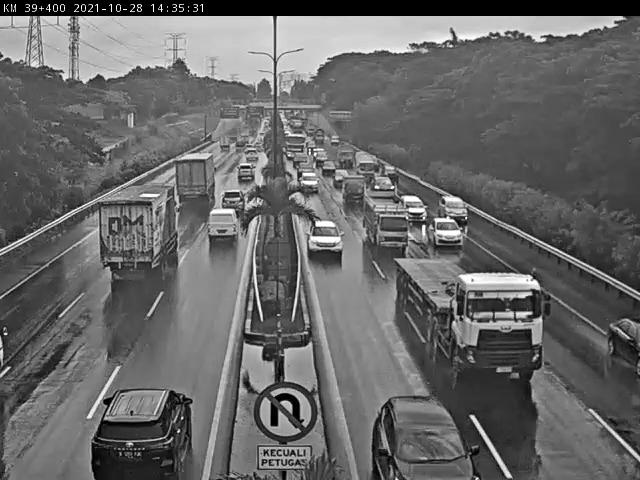big truck: (395, 257, 543, 382), (98, 183, 180, 274), (176, 154, 216, 199), (284, 130, 306, 157)
car: (89, 388, 196, 479), (375, 397, 478, 480), (605, 316, 640, 372), (308, 219, 343, 254), (428, 218, 463, 248), (209, 210, 238, 242), (437, 196, 468, 223), (402, 195, 426, 222), (341, 177, 365, 201), (219, 190, 245, 210), (300, 173, 320, 192), (381, 163, 400, 182), (373, 177, 395, 193), (234, 165, 253, 183), (334, 168, 349, 188), (292, 153, 308, 166), (297, 164, 313, 177), (315, 151, 328, 165), (323, 161, 336, 175), (245, 150, 257, 163)
small truck: (365, 196, 408, 251), (356, 153, 377, 177), (339, 149, 354, 164), (218, 137, 231, 151)
